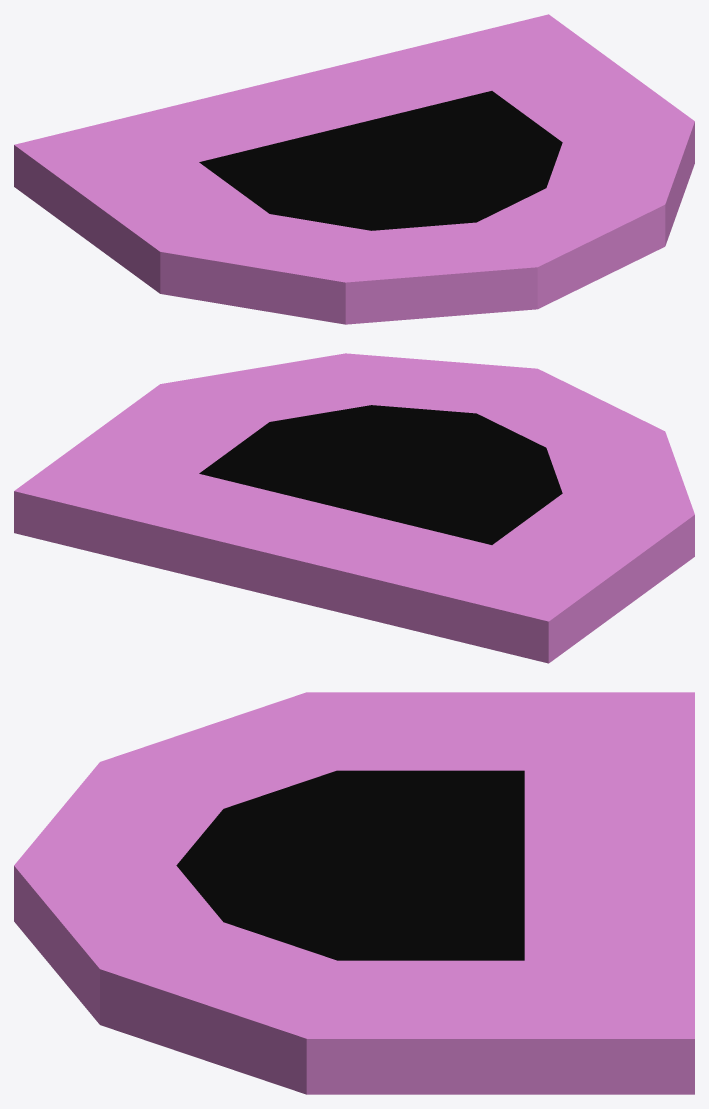
File: Podium.fbx
3 views of the same model, one above another, from view 1: azimuth 30°, elevation 25°; view 2: azimuth 150°, elevation 25°; view 3: azimuth 270°, elevation 25° (orthographic). The views are drawn at different scales.
Parts seen in each view (by area): view 1: Podium; view 2: Podium; view 3: Podium.
Boxes of the visible parts, x1,y1,x2,y2 form: Podium: (14, 14, 694, 324); Podium: (14, 353, 694, 663); Podium: (14, 692, 694, 1094).
Bounding box in the file's own units: 1503 × 113 × 1248.
